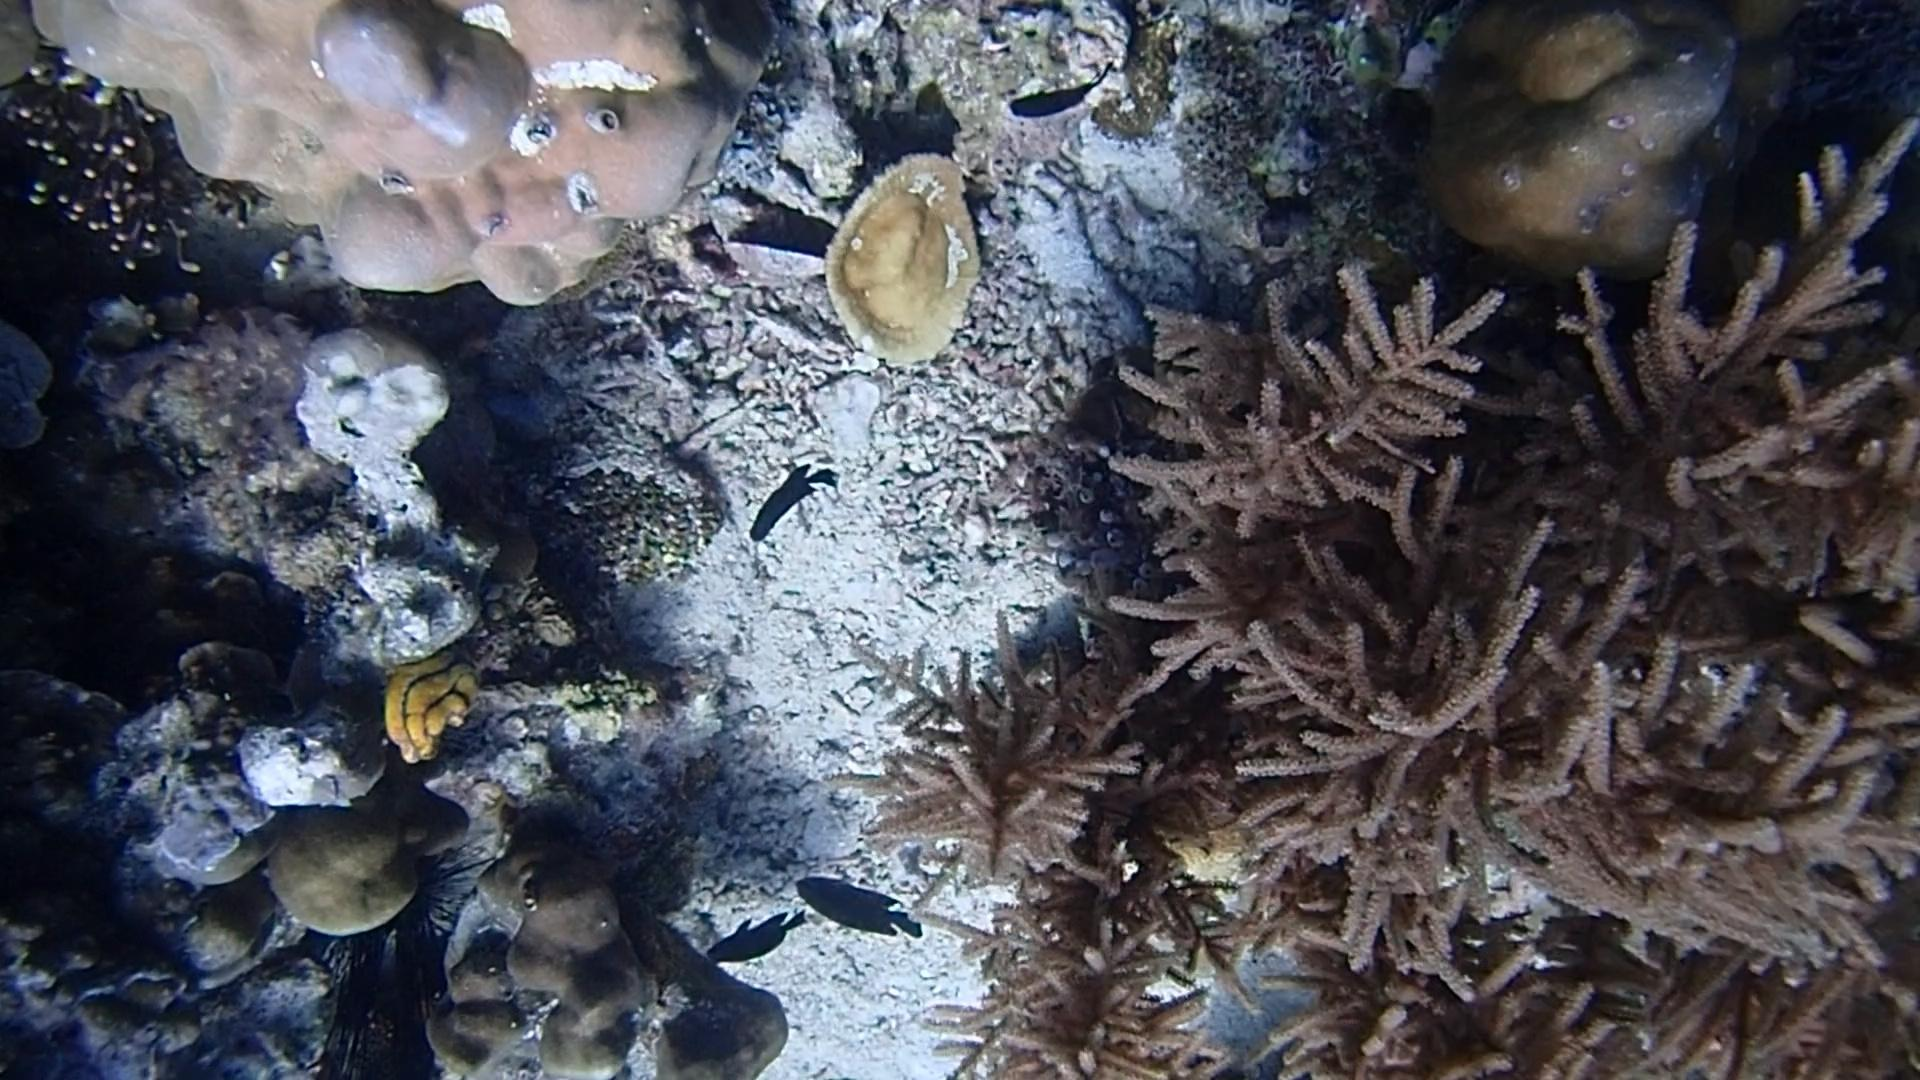Dark Fish: (787, 857, 939, 957), (738, 452, 843, 549), (990, 62, 1127, 127), (709, 895, 800, 980)
